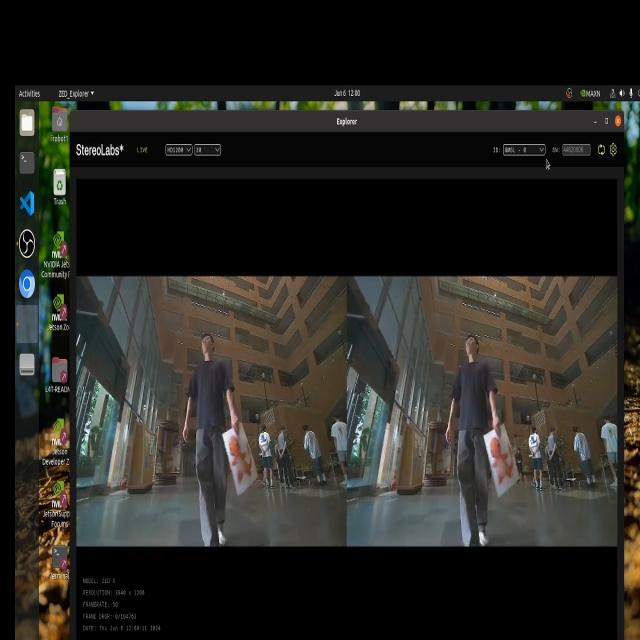red: (210, 436, 253, 492), (488, 434, 520, 498)
